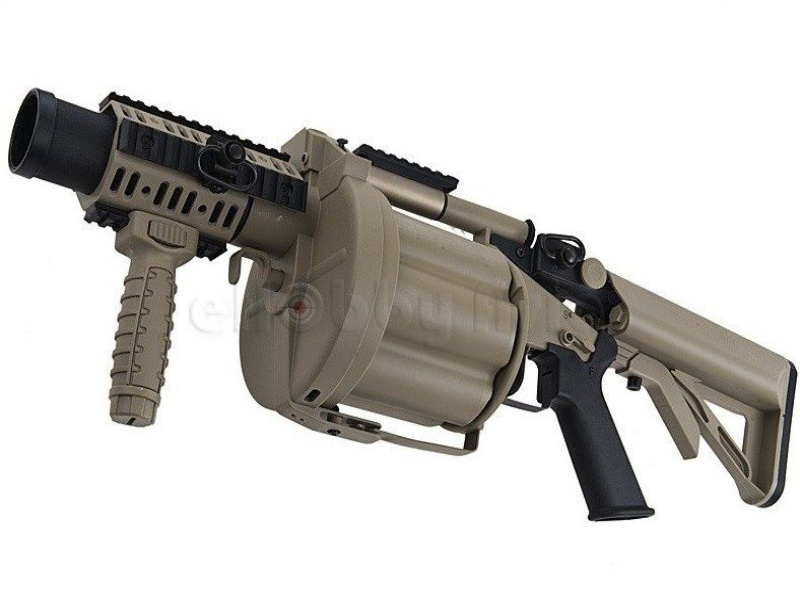gun: (9, 74, 798, 544)
